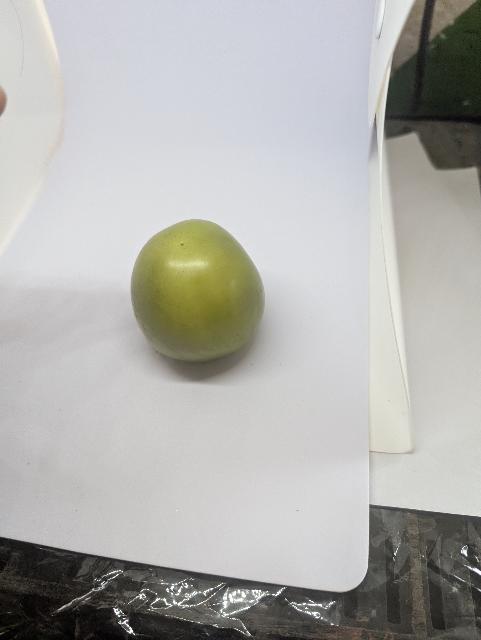green: (115, 209, 287, 389)
